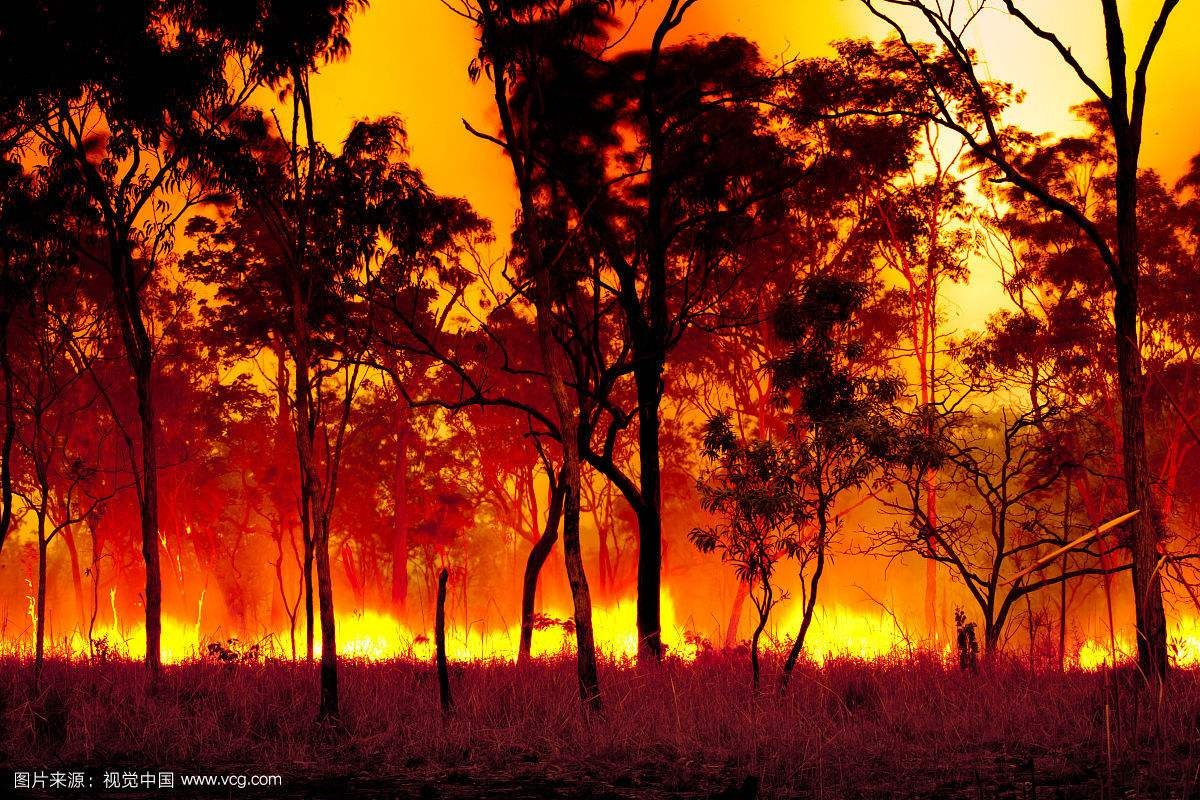fire: (2, 602, 704, 659), (761, 598, 918, 671), (1068, 618, 1136, 673), (1167, 620, 1199, 675)
